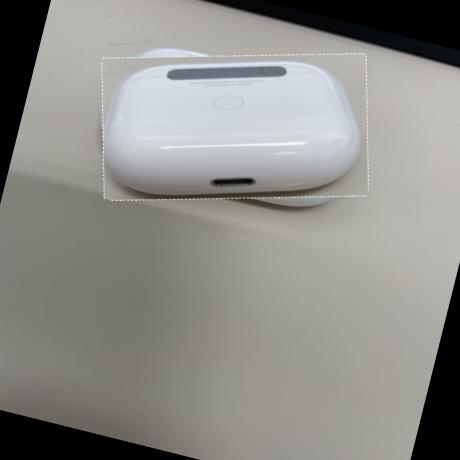airpod3: (80, 9, 390, 244)
